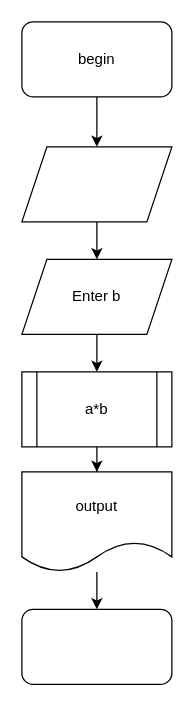
Image size: 194x706. Some labels were removed from this diagram. The centre of each missing label's shape, as x and y in pixels:
end.: the point at 96,646
Enter a: the point at 96,184
